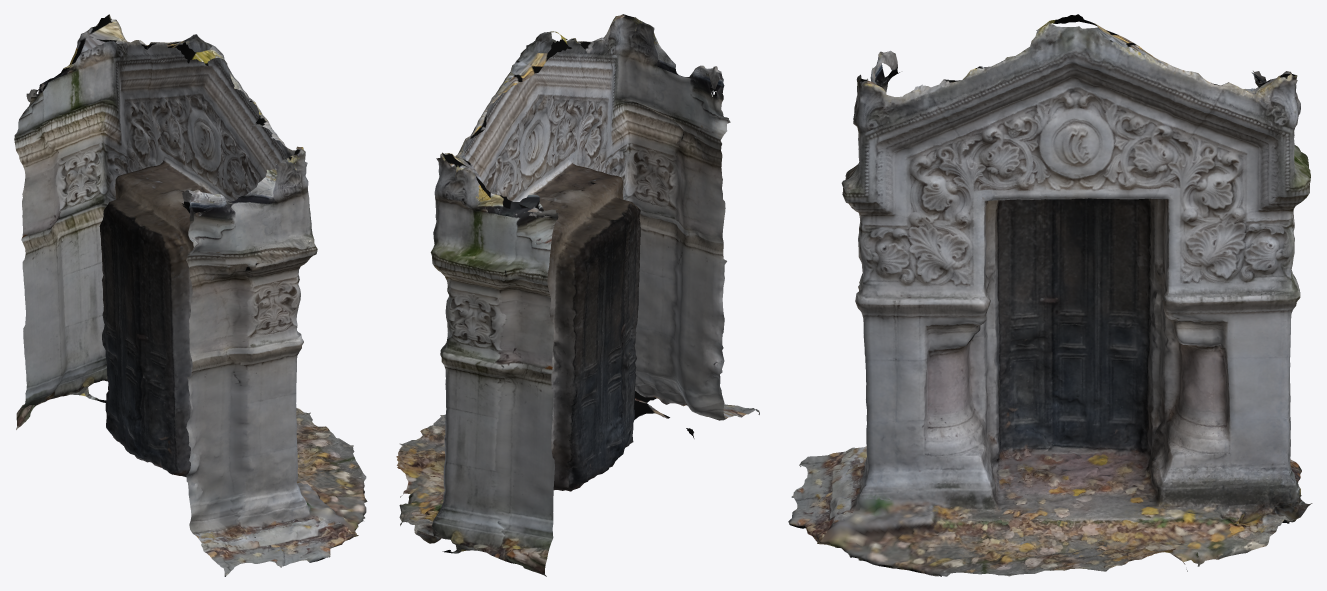
The model's file is gate.glb.
The picture shows the model from 3 angles, left to right: view 1: azimuth 30°, elevation 25°; view 2: azimuth 150°, elevation 25°; view 3: azimuth 270°, elevation 25°; orthographic projection. The views are drawn at different scales.
Parts seen in each view (by area): view 1: Object_2; view 2: Object_2; view 3: Object_2.
Part boxes in pixels (left/top/right/bottom): Object_2: left=14, top=14, right=367, bottom=576; Object_2: left=396, top=14, right=759, bottom=576; Object_2: left=788, top=14, right=1312, bottom=576.
Bounding box in the file's own units: 0.8531 × 1.61 × 1.5.
1 material, 1 textured.
